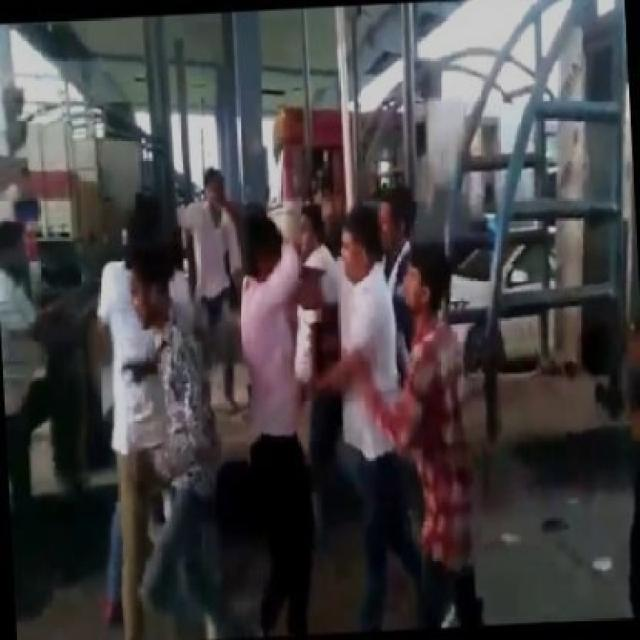fight: (232, 201, 423, 640)
non-fight: (349, 243, 491, 625), (95, 188, 174, 640), (0, 217, 58, 617), (178, 173, 245, 411)
